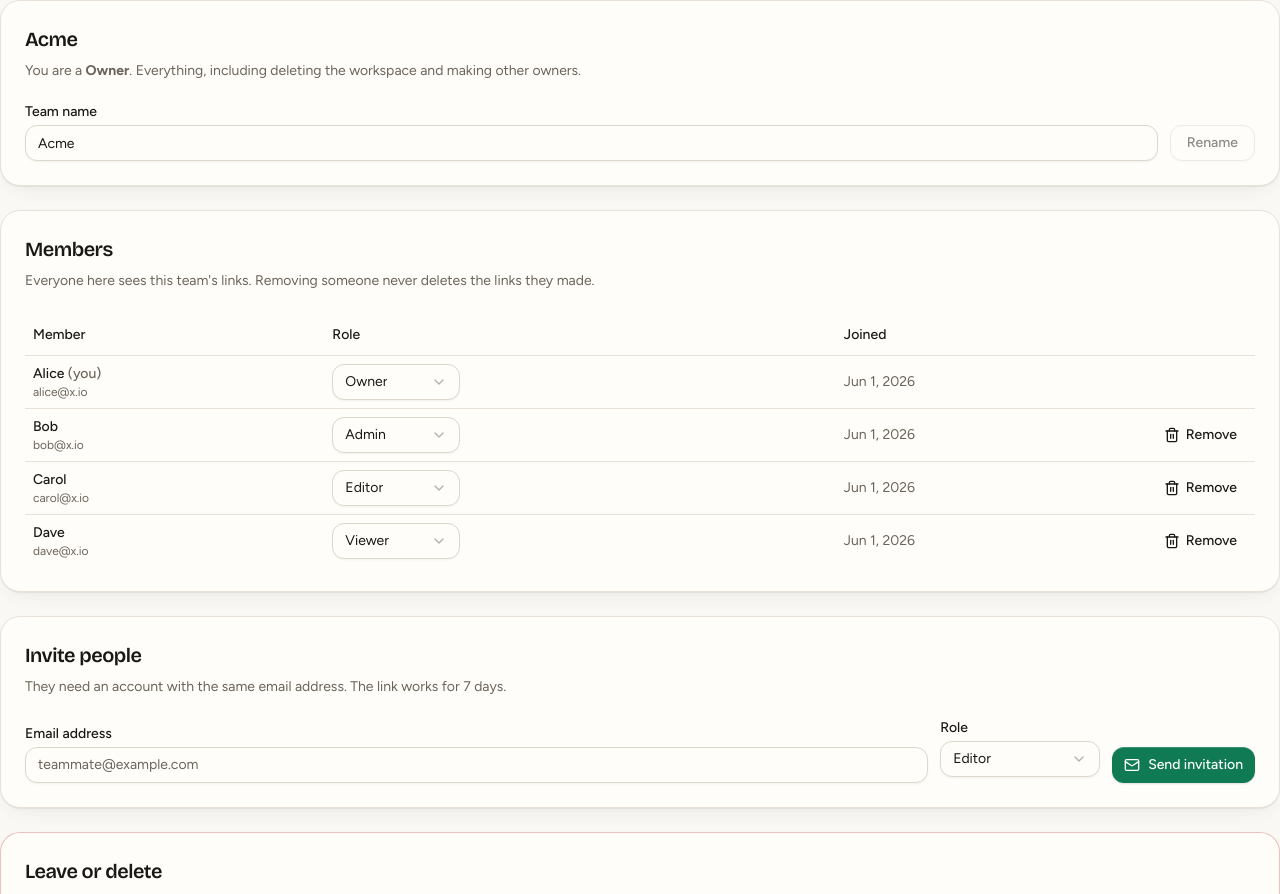
Test: TeamManager as an owner › invites someone and shows the link to share when email was not sent
Step 1. Type "erin@x.io" into the field labelled "Email address" → (477, 764), box [25,746,928,782]
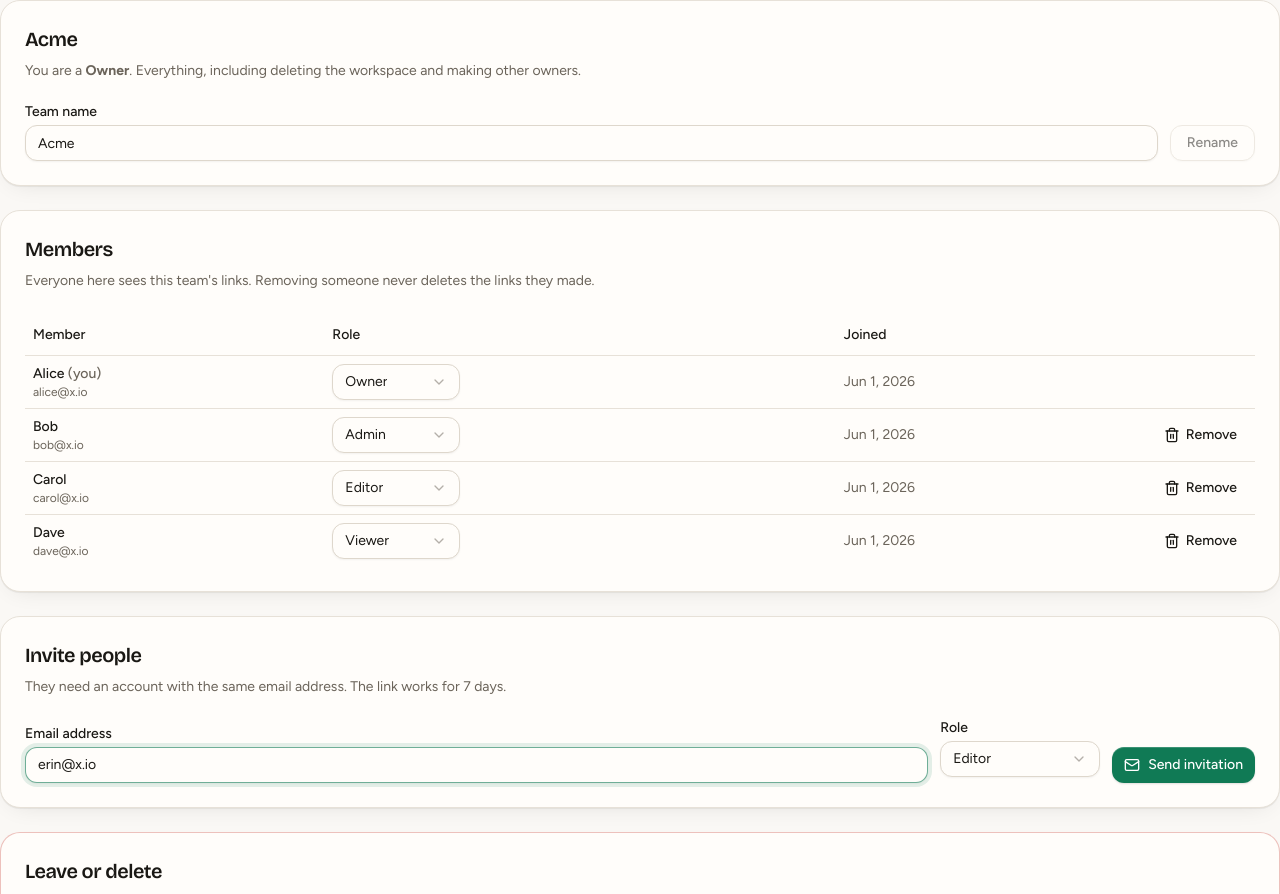
Step 2. Click the button "Send invitation" → (1184, 764), box [1112,746,1255,782]
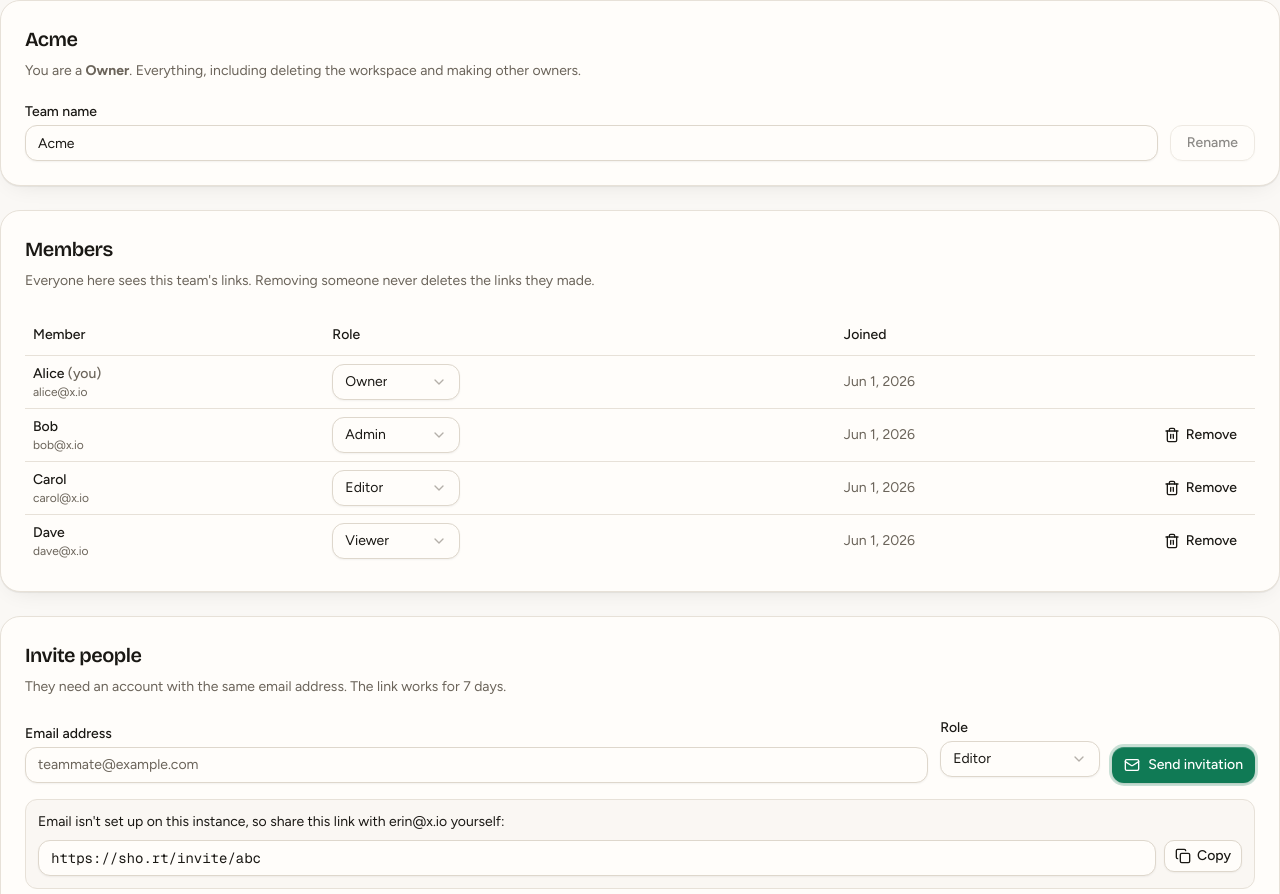
Expected: the message with test id "invite-result" shows "Email isn't set up on this instance", [38,812,504,830]
Expected: the field named "Invitation link" holds "https://sho.rt/invite/abc", [38,840,1156,876]
